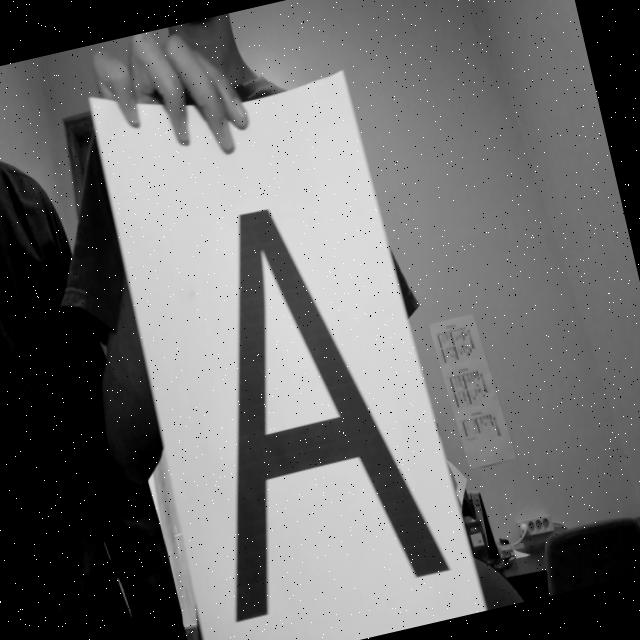a: (140, 163, 464, 638)
